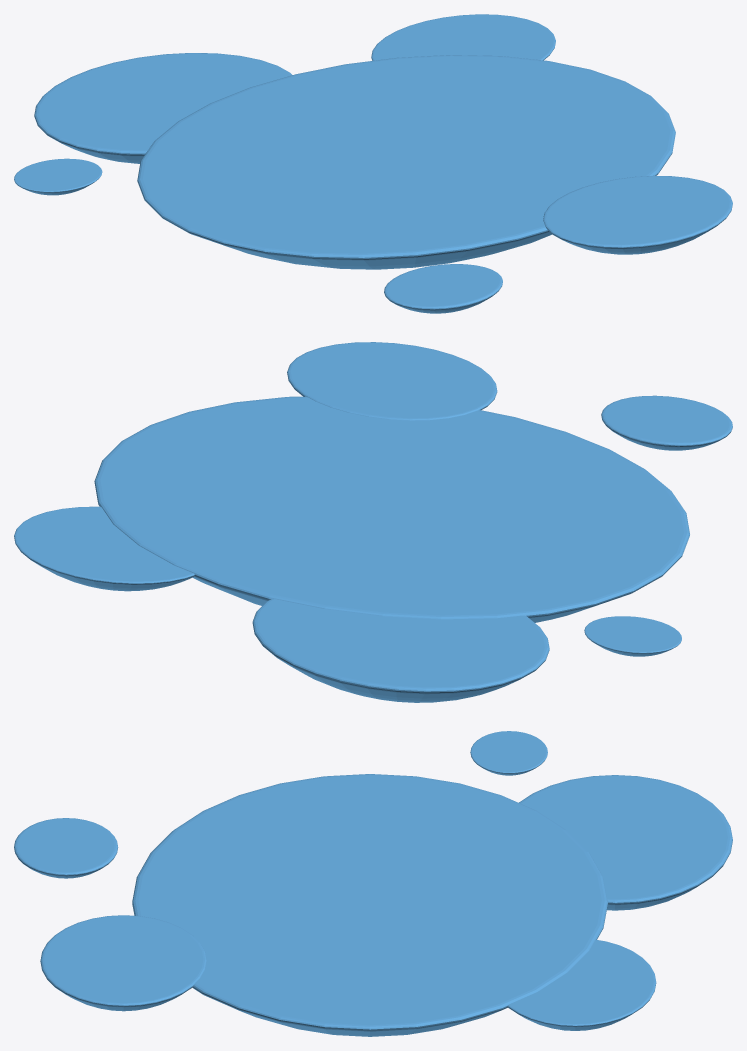
Rendered from puddle.fbx.
3 views of the same model, one above another, from view 1: azimuth 30°, elevation 25°; view 2: azimuth 150°, elevation 25°; view 3: azimuth 270°, elevation 25° (orthographic). The views are drawn at different scales.
Visible parts, largest first — view 1: Cylinder, Cylinder.001, Cylinder.004, Cylinder.002, Cylinder.005, Cylinder.006; view 2: Cylinder, Cylinder.001, Cylinder.004, Cylinder.002, Cylinder.005, Cylinder.006; view 3: Cylinder, Cylinder.001, Cylinder.004, Cylinder.002, Cylinder.005, Cylinder.006.
Boxes of the visible parts, left/top/right/bottom form: Cylinder: left=137, top=55, right=675, bottom=269; Cylinder.001: left=34, top=53, right=292, bottom=163; Cylinder.004: left=543, top=175, right=732, bottom=254; Cylinder.002: left=371, top=14, right=555, bottom=60; Cylinder.005: left=384, top=264, right=502, bottom=313; Cylinder.006: left=14, top=158, right=102, bottom=195; Cylinder: left=94, top=396, right=689, bottom=622; Cylinder.001: left=252, top=599, right=549, bottom=702; Cylinder.004: left=287, top=342, right=497, bottom=420; Cylinder.002: left=14, top=506, right=194, bottom=591; Cylinder.005: left=601, top=395, right=732, bottom=450; Cylinder.006: left=584, top=616, right=681, bottom=656; Cylinder: left=132, top=774, right=607, bottom=1036; Cylinder.001: left=519, top=775, right=732, bottom=910; Cylinder.004: left=40, top=915, right=206, bottom=1011; Cylinder.002: left=507, top=939, right=656, bottom=1030; Cylinder.005: left=14, top=818, right=118, bottom=878; Cylinder.006: left=470, top=731, right=547, bottom=775.
Size of the model in its own units: 165 by 21.47 by 170.
